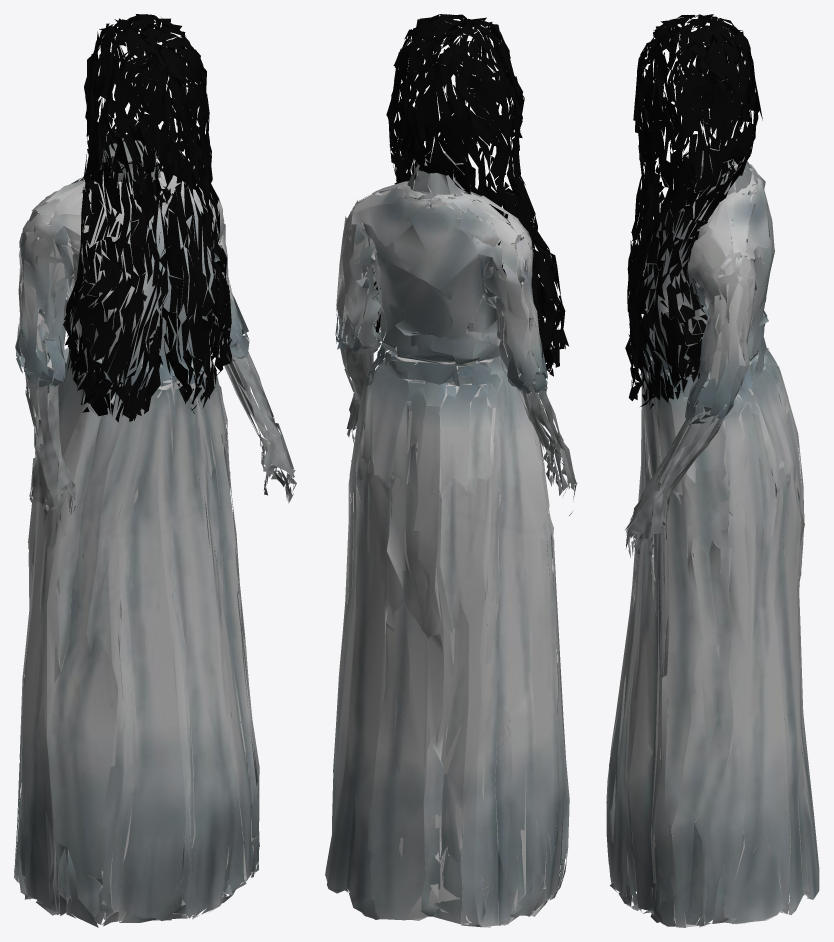
The model's file is ghost_white.glb.
3 renders of one model, left to right at view 1: azimuth 30°, elevation 25°; view 2: azimuth 150°, elevation 25°; view 3: azimuth 270°, elevation 25°, orthographic.
Parts seen in each view (by area): view 1: Dress_low, Hair_low, Body_low; view 2: Dress_low, Hair_low, Body_low; view 3: Dress_low, Hair_low, Body_low.
Part boxes in pixels (bbox=[...]): Dress_low: bbox=[14, 161, 259, 927]; Hair_low: bbox=[63, 14, 232, 422]; Body_low: bbox=[23, 140, 296, 904]; Dress_low: bbox=[325, 180, 569, 927]; Hair_low: bbox=[373, 14, 568, 376]; Body_low: bbox=[338, 152, 577, 908]; Dress_low: bbox=[606, 164, 819, 927]; Hair_low: bbox=[625, 14, 762, 409]; Body_low: bbox=[625, 147, 777, 843].
Bounding box in the file's own units: 0.4837 × 1.66 × 0.3701.
Materials: 3 (3 with a texture image).
